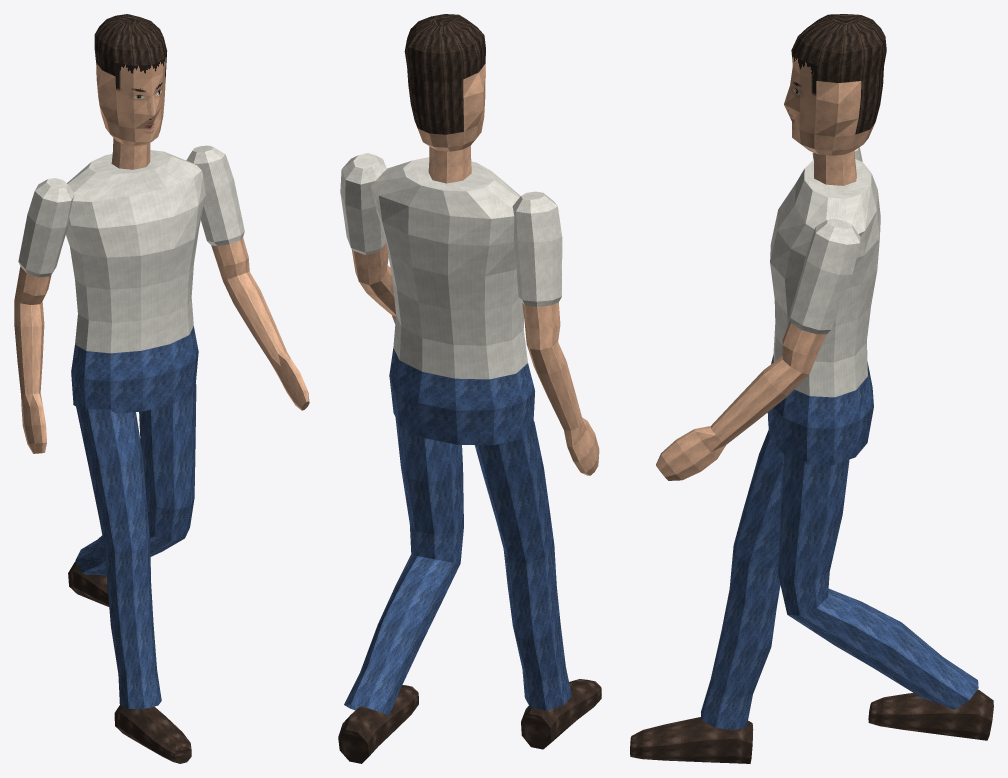
Rendered from walk_19.obj.
The picture shows the model from 3 angles, left to right: view 1: azimuth 30°, elevation 25°; view 2: azimuth 150°, elevation 25°; view 3: azimuth 270°, elevation 25°; orthographic projection. The views are drawn at different scales.
Size of the model in its own units: 0.6265 by 1.82 by 0.7856.
25 materials, 25 textured.
